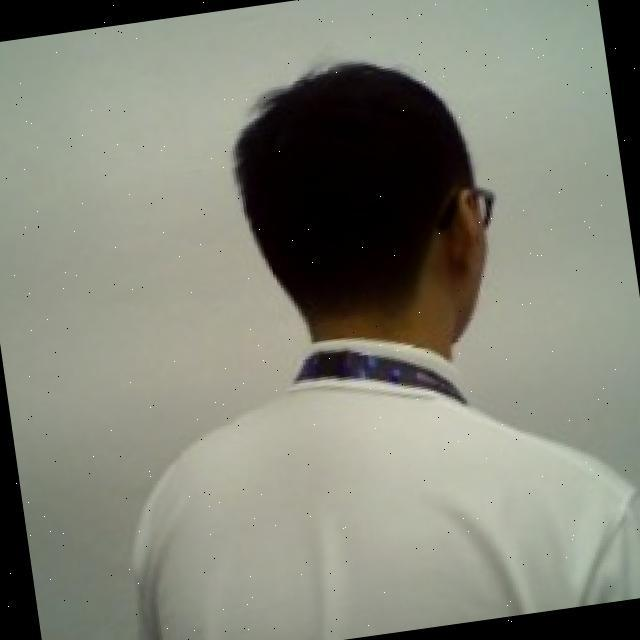no_gloves: (222, 36, 501, 360)
